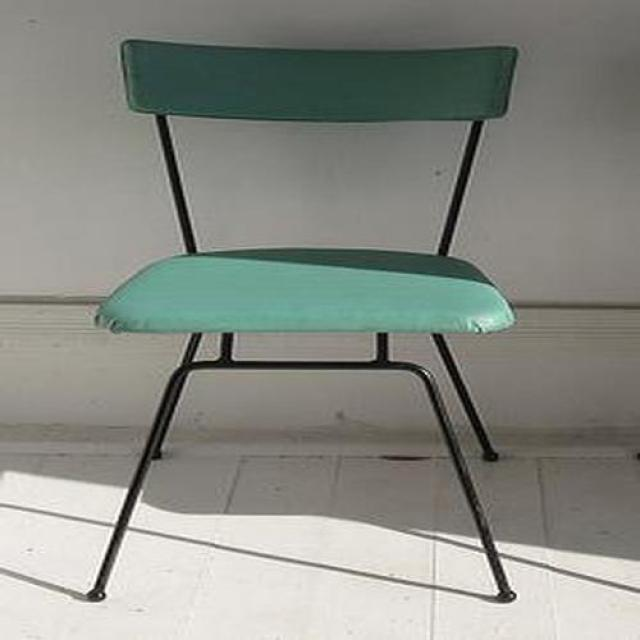chair: (86, 40, 520, 604)
